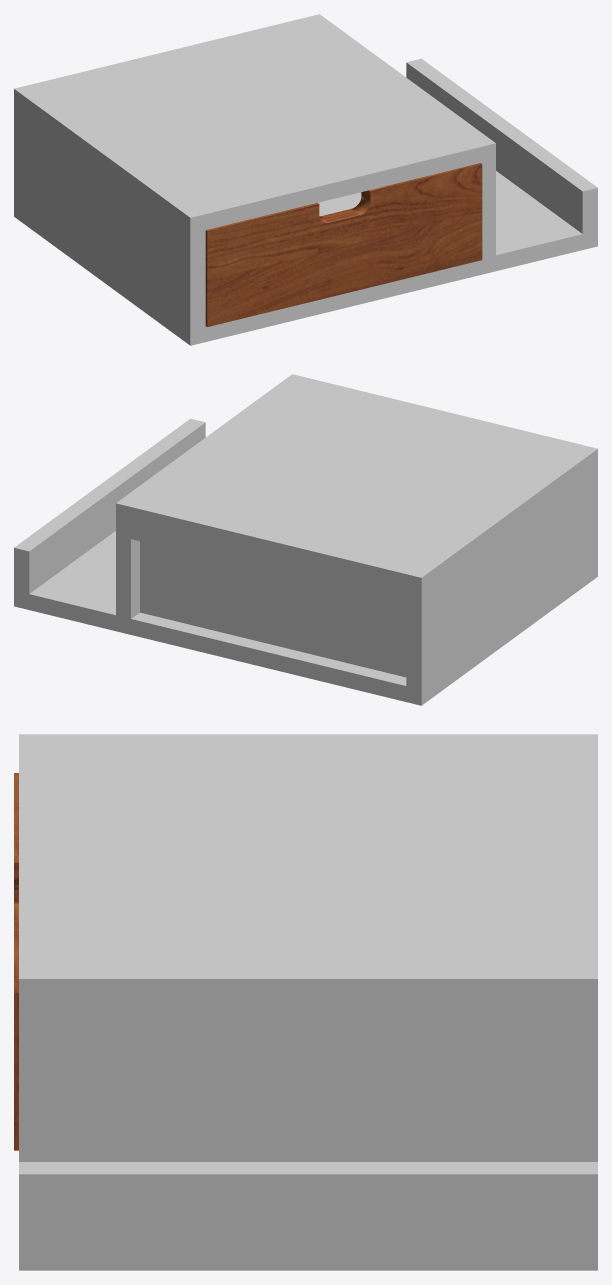
File: Lyra.glb
3 views of the same model, one above another, from view 1: azimuth 30°, elevation 25°; view 2: azimuth 150°, elevation 25°; view 3: azimuth 270°, elevation 25° (orthographic). The views are drawn at different scales.
Parts seen in each view (by area): view 1: G-__557832, G-__557859, G-__557850; view 2: G-__557832; view 3: G-__557832, G-__557859.
Boxes of the visible parts, x1=… form: G-__557832: x1=14, y1=14, x2=597, y2=345; G-__557859: x1=205, y1=163, x2=482, y2=326; G-__557850: x1=318, y1=192, x2=361, y2=216; G-__557832: x1=14, y1=374, x2=597, y2=705; G-__557832: x1=19, y1=734, x2=597, y2=1270; G-__557859: x1=14, y1=773, x2=18, y2=1150.
Bounding box in the file's own units: 0.4 × 0.12 × 0.3026.
2 materials, 1 textured.
